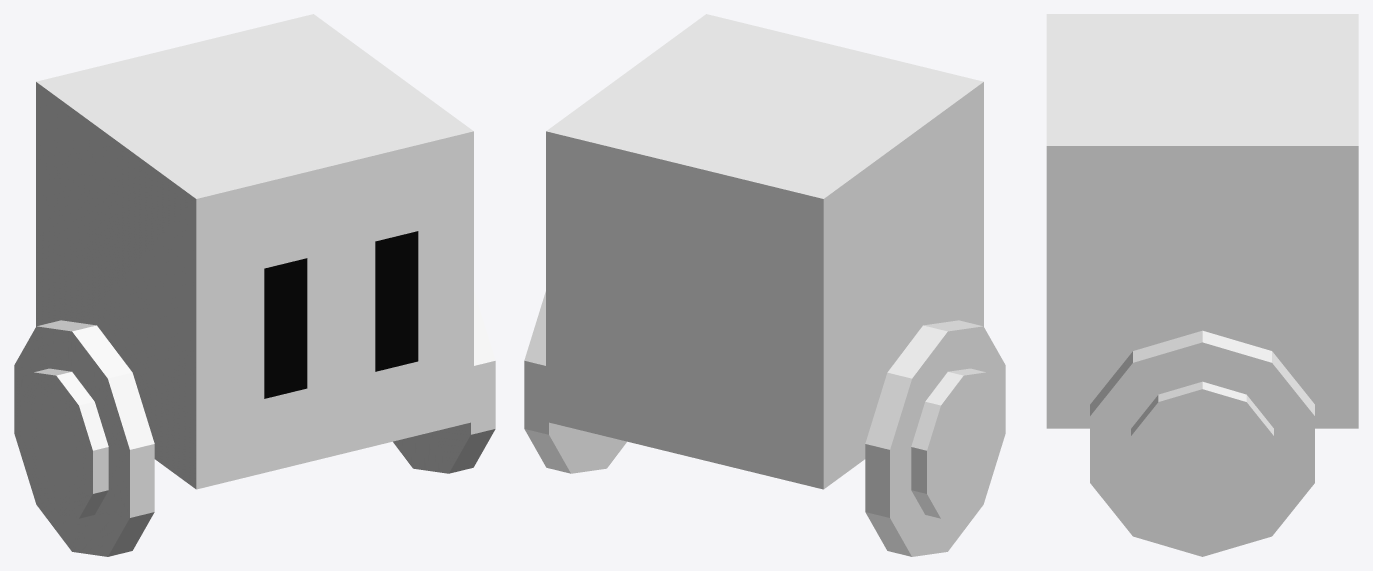
File: taiya.obj
The picture shows the model from 3 angles, left to right: view 1: azimuth 30°, elevation 25°; view 2: azimuth 150°, elevation 25°; view 3: azimuth 270°, elevation 25°; orthographic projection. The views are drawn at different scales.
Visible parts, largest first — view 1: pCube1, pCylinder4, pPlane1, pPlane2, pCylinder3; view 2: pCube1, pCylinder4, pCylinder3; view 3: pCube1, pCylinder3.
Part boxes in pixels (box(x1,y1,x2,y2)): pCube1: box(36, 14, 473, 489); pCylinder4: box(14, 320, 154, 556); pPlane1: box(264, 258, 307, 398); pPlane2: box(375, 231, 418, 371); pCylinder3: box(393, 291, 495, 473); pCube1: box(546, 14, 983, 489); pCylinder4: box(865, 320, 1005, 556); pCylinder3: box(524, 291, 626, 473); pCube1: box(1046, 14, 1358, 428); pCylinder3: box(1090, 330, 1314, 556).
Size of the model in its own units: 7.16 by 6.9 by 5.19.
Materials: 2 (1 with a texture image).
